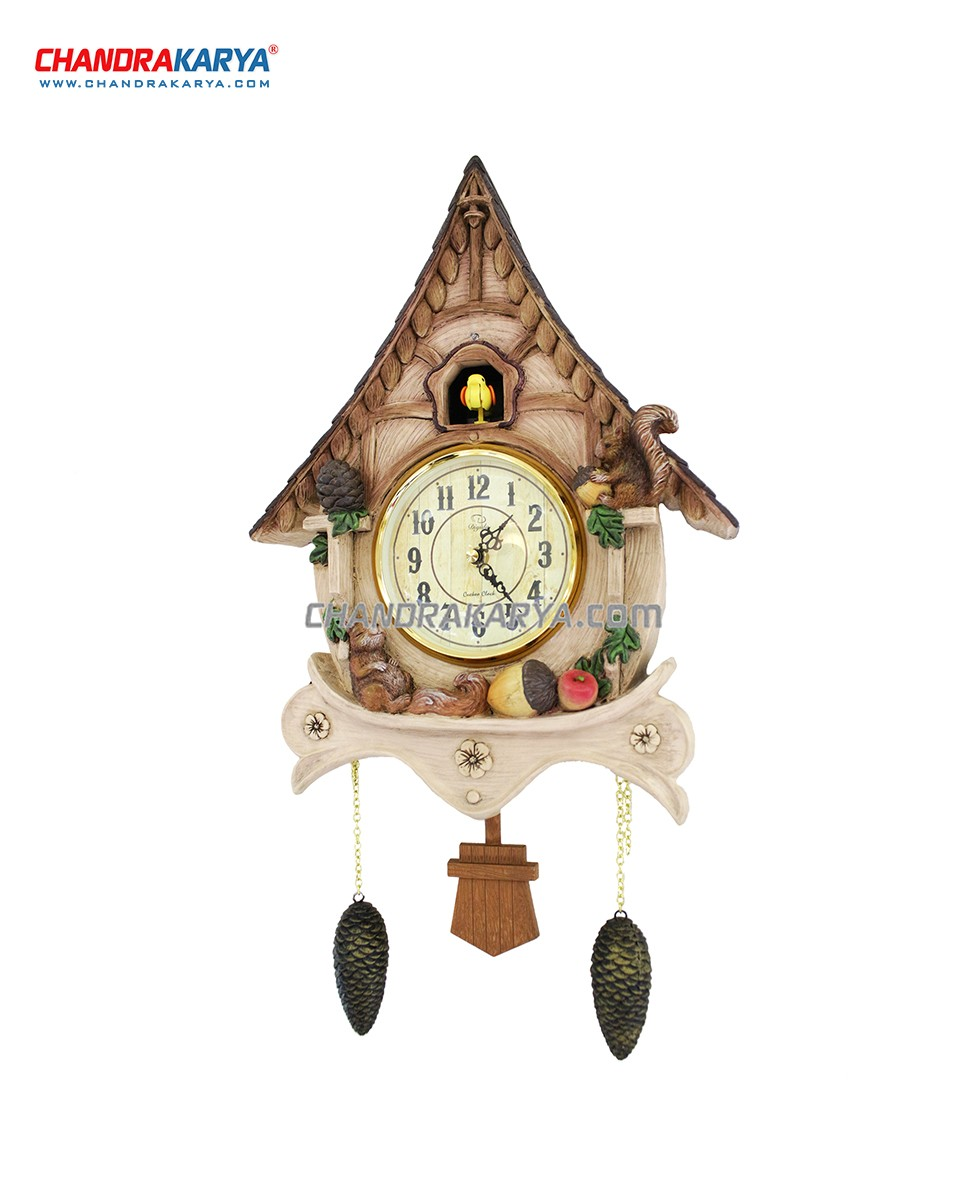jam dinding: (210, 130, 726, 863)
